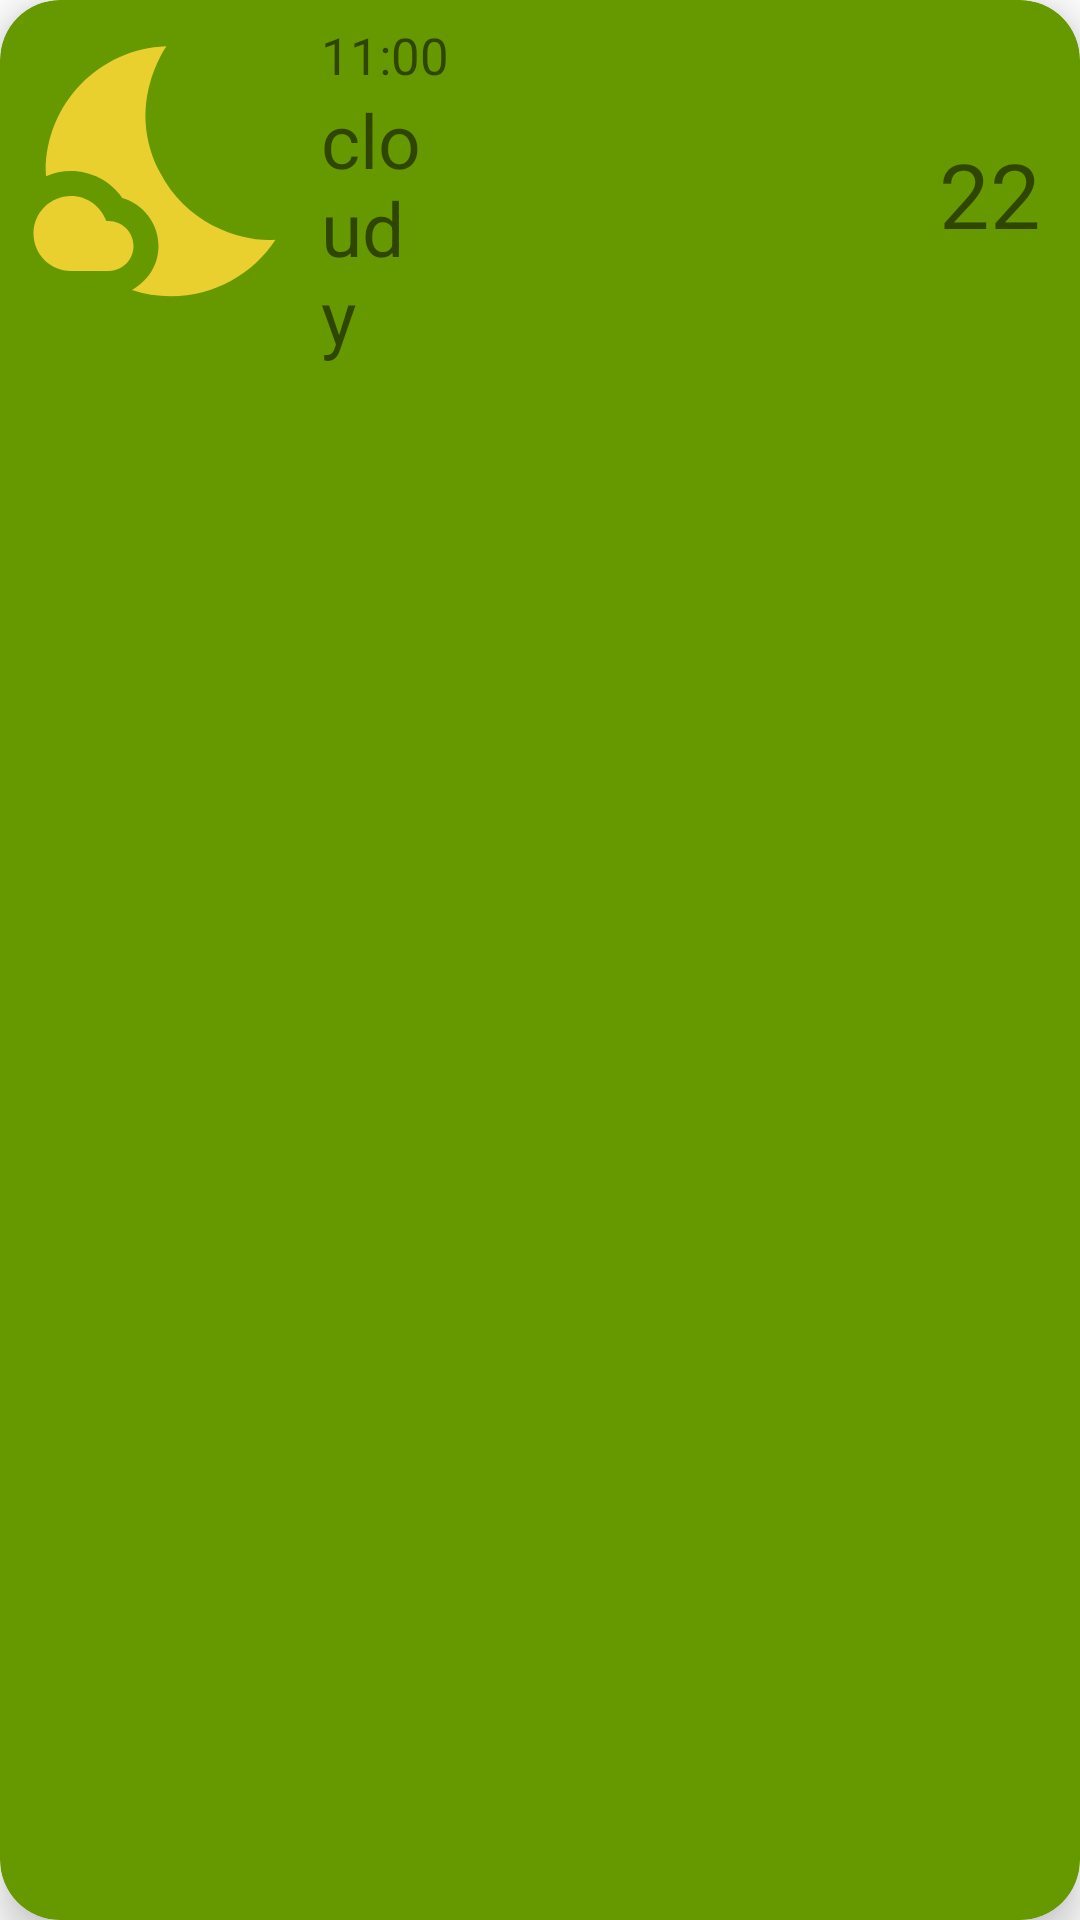

Named icons in this screenshot (1080px x 1920px) and their bounding boxes, (x1, y1, x2, y2):
nights stay: (33, 46, 275, 297)
